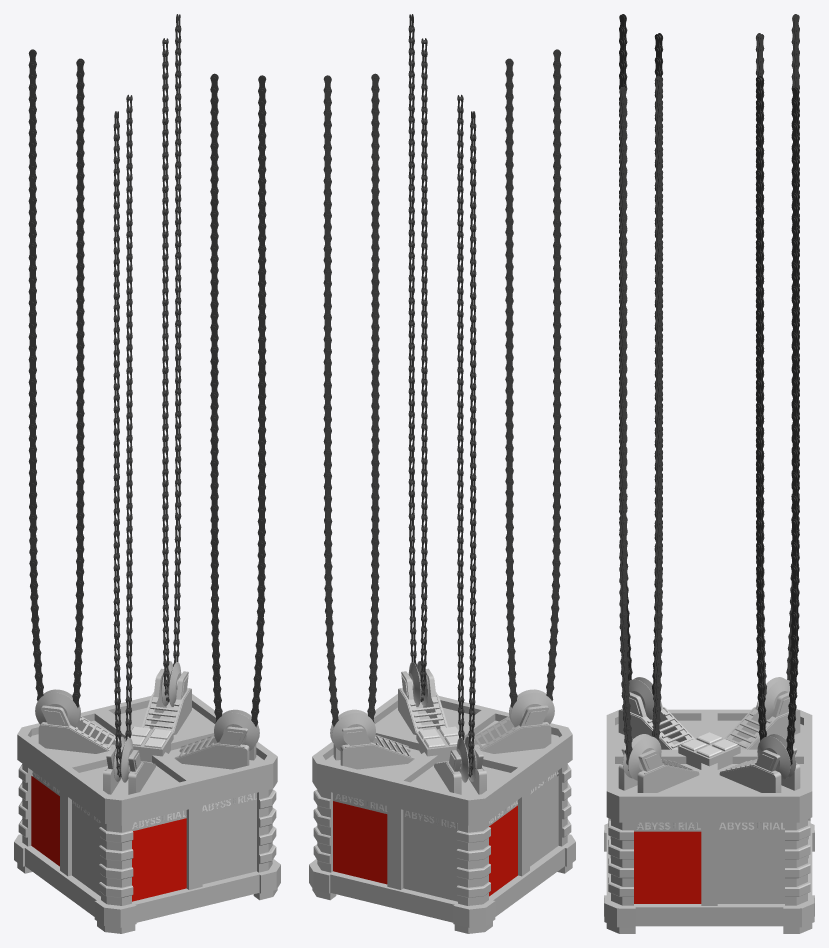
File: 주사기박스.fbx
3 views of the same model, side by side, from view 1: azimuth 30°, elevation 25°; view 2: azimuth 150°, elevation 25°; view 3: azimuth 270°, elevation 25° (orthographic). The views are drawn at different scales.
Parts seen in each view (by area): view 1: BOX_S; view 2: BOX_S; view 3: BOX_S.
Boxes of the visible parts, left/top/right/bottom form: BOX_S: left=14, top=14, right=280, bottom=933; BOX_S: left=309, top=14, right=575, bottom=933; BOX_S: left=604, top=14, right=814, bottom=933.
Bounding box in the file's own units: 110 × 483 × 110.
